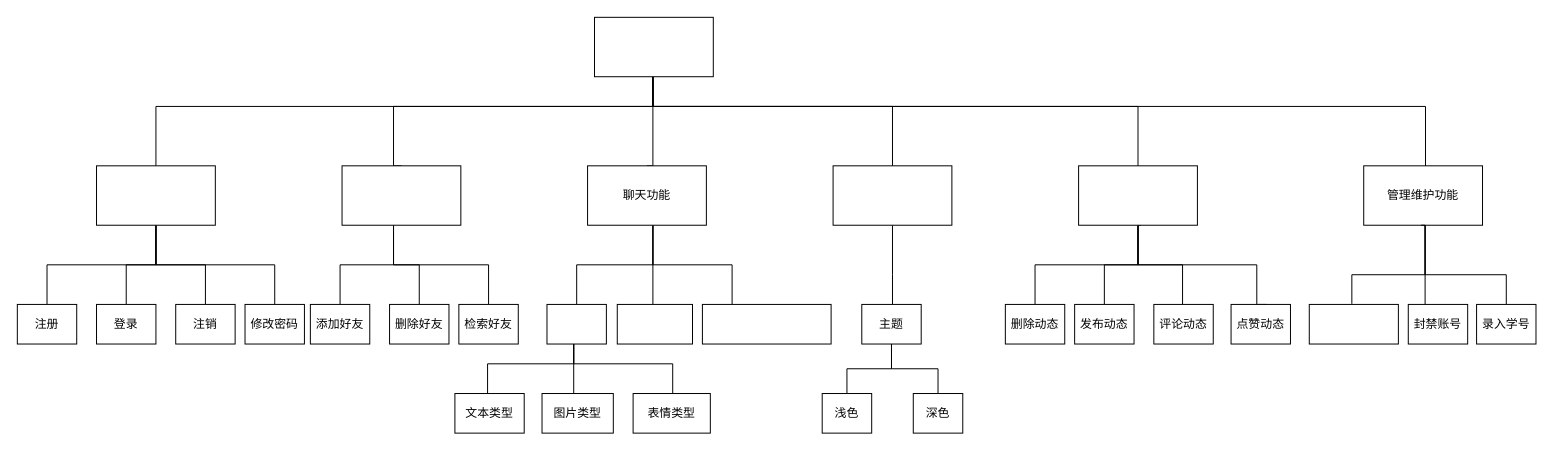
Some shapes in this 1553 by 450 pixel diagram are drawn without their labels. The shapes that lost their labels are listed below. From the top down, each one's centre as x and y in pixels, then its label:
At [653,46]: "校园即时通讯系统".
At [155,195]: "账号功能".
At [401,195]: "好友功能".
At [892,195]: "其他功能".
At [1137,195]: "动态模块".
At [576,323]: "发送信息".
At [654,323]: "显示输入状态".
At [766,323]: "修改信息已读/未读状态".
At [1353,323]: "搜索虚假信息".
